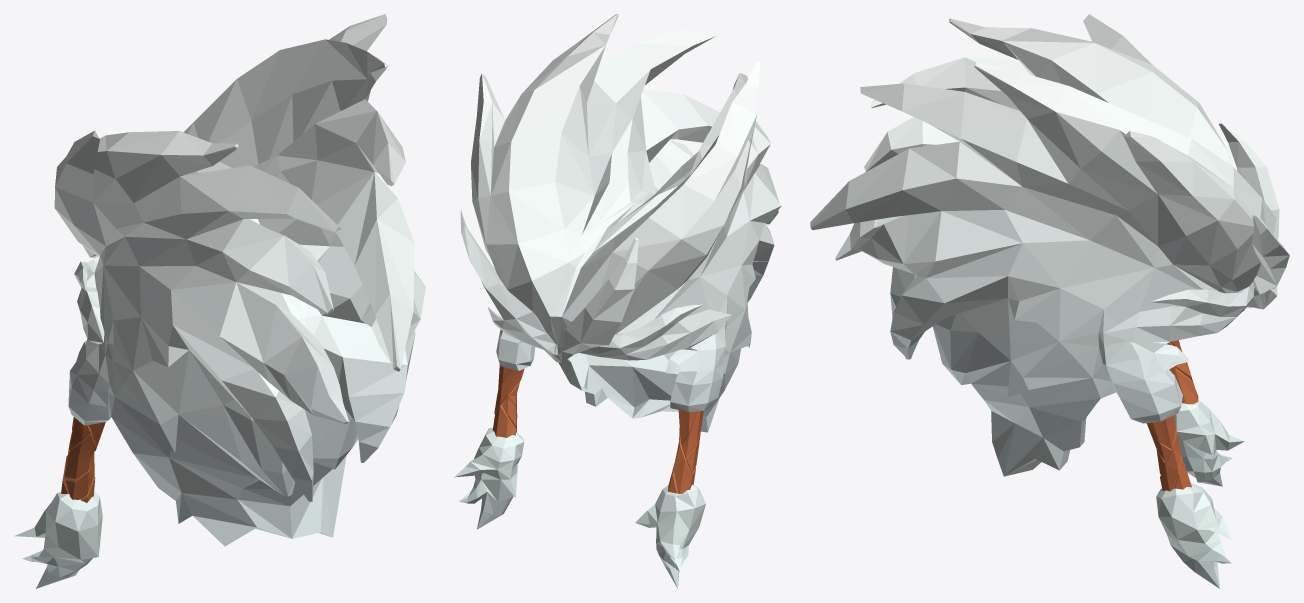
File: CharSkyKid_Hair_AP16Fire.glb
3 views of the same model, side by side, from view 1: azimuth 30°, elevation 25°; view 2: azimuth 150°, elevation 25°; view 3: azimuth 270°, elevation 25° (orthographic). The views are drawn at different scales.
Visible parts, largest first — view 1: CharSkyKid_Hair_AP16Fire; view 2: CharSkyKid_Hair_AP16Fire; view 3: CharSkyKid_Hair_AP16Fire.
Part boxes in pixels (bbox=[...]): CharSkyKid_Hair_AP16Fire: bbox=[14, 14, 425, 588]; CharSkyKid_Hair_AP16Fire: bbox=[454, 14, 781, 588]; CharSkyKid_Hair_AP16Fire: bbox=[810, 14, 1289, 588].
Size of the model in its own units: 3.18 by 5.36 by 4.5.
Materials: 1 (1 with a texture image).
